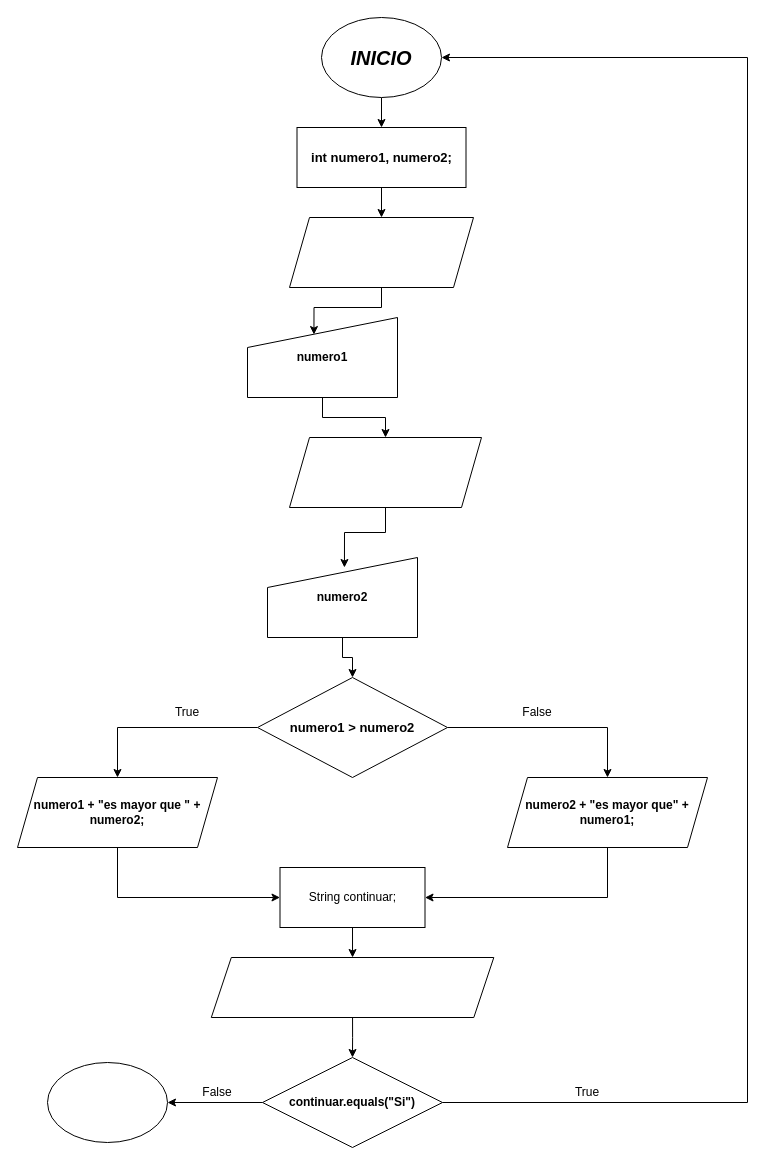
The diagram is 773 pixels wide and 1165 high, and some of its shapes have lost their labels. The shapes that lost their labels are listed below. From the top down, each one's centre as x and y in pixels, then its label:
At pixel 381 252: "Ingresa el primer número:".
At pixel 385 472: "Ingresa el segundo número:".
At pixel 352 987: "Quieres volver a ejecutar el programa?".
At pixel 107 1102: "FIN".
